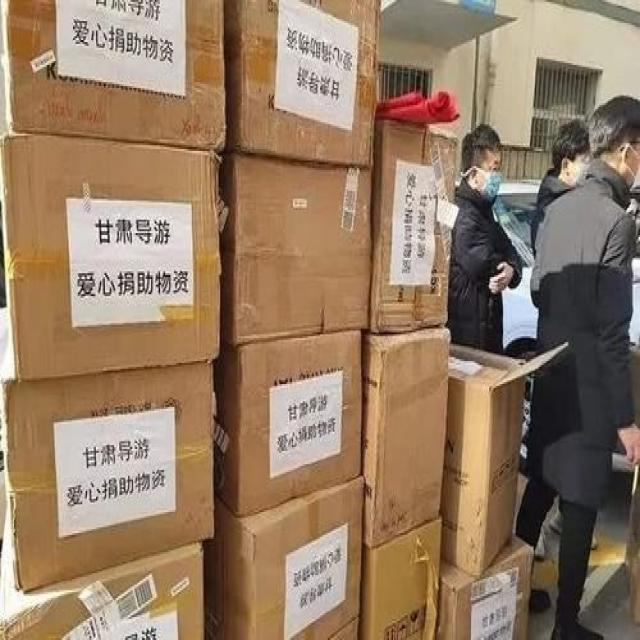box: (1, 329, 215, 596), (0, 134, 221, 382), (1, 0, 227, 153), (220, 145, 372, 348), (439, 342, 568, 579), (214, 331, 361, 516), (0, 510, 204, 640), (202, 478, 365, 640), (225, 0, 381, 168), (360, 323, 451, 550), (369, 120, 457, 332), (358, 516, 442, 640), (438, 531, 532, 640)
